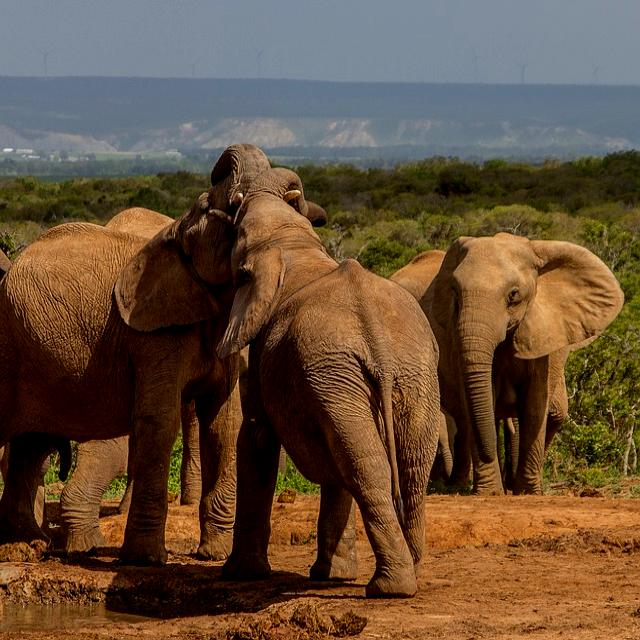FIL: (1, 145, 226, 602), (230, 154, 442, 599), (443, 231, 626, 494)
